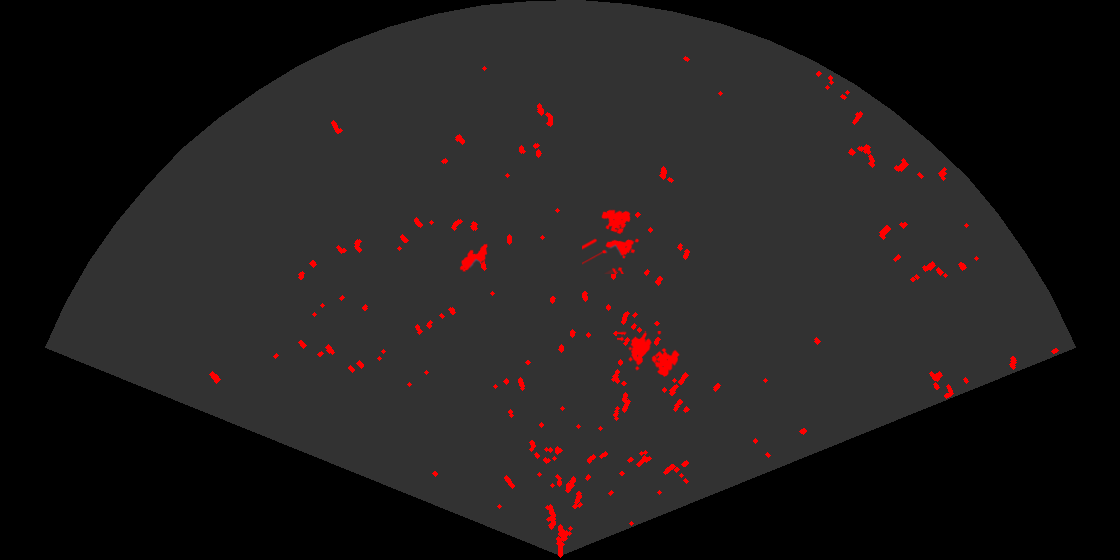AUV: (458, 242, 489, 273)
cage: (582, 208, 641, 274), (617, 331, 681, 379)
